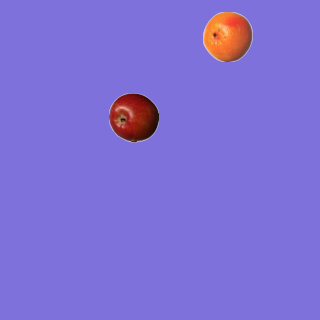Apple Braeburn: (108, 92, 158, 142)
Grapefruit Pink: (202, 11, 252, 61)
